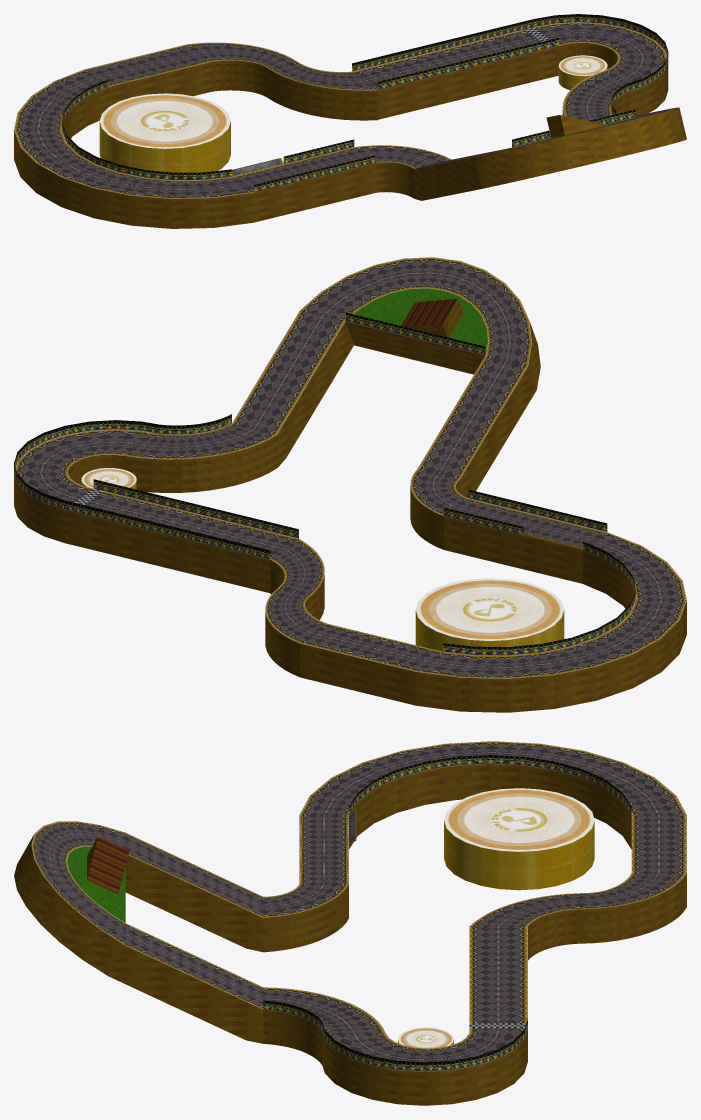
3 renders of one model, top to bottom at view 1: azimuth 30°, elevation 25°; view 2: azimuth 150°, elevation 25°; view 3: azimuth 270°, elevation 25°, orthographic. The views are drawn at different scales.
Parts seen in each view (by area): view 1: Course-SKP--Material3, Course-SKP--Road, Course-SKP--Drum, Course-SKP--Material2, Course-SKP--Material, Course-SKP--Fence, Course-SKP--Material1; view 2: Course-SKP--Road, Course-SKP--Material3, Course-SKP--Material2, Course-SKP--Drum, Course-SKP--Fence, Course-SKP--Grass, Course-SKP--Material, Course-SKP--Material4; view 3: Course-SKP--Road, Course-SKP--Material3, Course-SKP--Drum, Course-SKP--Material, Course-SKP--Material2, Course-SKP--Grass, Course-SKP--Material4.
Part boxes in pixels (x1,y1,x2,y2): Course-SKP--Material3: (14, 43, 686, 228); Course-SKP--Road: (14, 22, 678, 198); Course-SKP--Drum: (99, 55, 607, 148); Course-SKP--Material2: (62, 14, 668, 180); Course-SKP--Material: (99, 66, 607, 172); Course-SKP--Fence: (253, 38, 558, 192); Course-SKP--Material1: (231, 158, 283, 176); Course-SKP--Road: (15, 257, 686, 678); Course-SKP--Material3: (14, 299, 686, 712); Course-SKP--Material2: (14, 312, 635, 655); Course-SKP--Drum: (81, 468, 563, 640); Course-SKP--Fence: (93, 479, 607, 559); Course-SKP--Grass: (353, 288, 487, 355); Course-SKP--Material: (81, 481, 564, 651); Course-SKP--Material4: (401, 298, 457, 327); Course-SKP--Road: (31, 741, 686, 1062); Course-SKP--Material3: (14, 764, 686, 1105); Course-SKP--Drum: (398, 788, 594, 1048); Course-SKP--Material: (398, 821, 594, 1045); Course-SKP--Material2: (263, 755, 631, 1071); Course-SKP--Grass: (67, 846, 125, 922); Course-SKP--Material4: (87, 836, 129, 894).
Bounding box in the file's own units: 58860 × 12183 × 50634.
11 materials, 10 textured.
